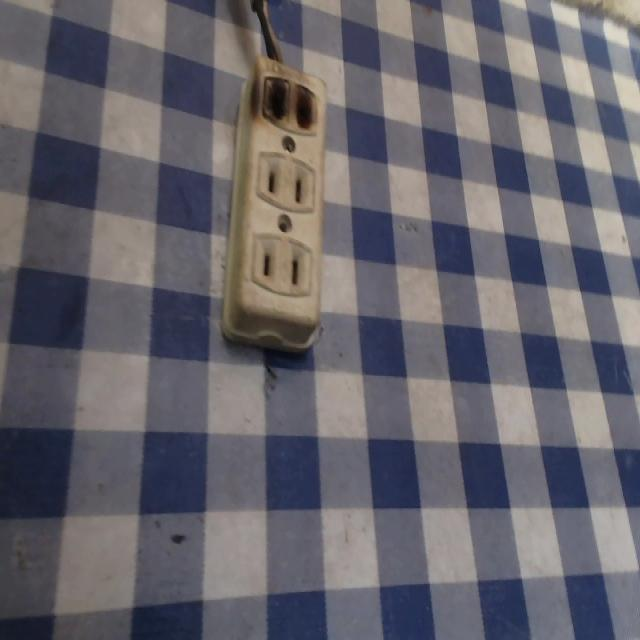-: (249, 68, 329, 137)
